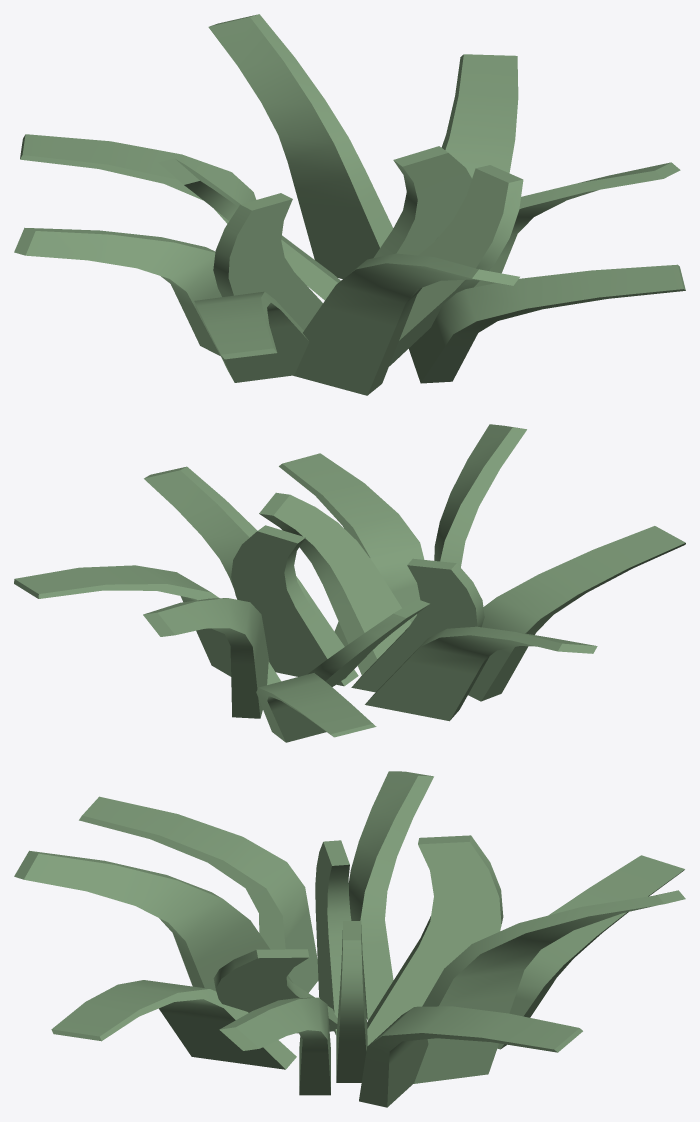
File: Grass_Patch_02.fbx
3 views of the same model, one above another, from view 1: azimuth 30°, elevation 25°; view 2: azimuth 150°, elevation 25°; view 3: azimuth 270°, elevation 25° (orthographic). The views are drawn at different scales.
Visible parts, largest first — view 1: Grass_Patch_02; view 2: Grass_Patch_02; view 3: Grass_Patch_02.
Part boxes in pixels (left/top/right/bottom): Grass_Patch_02: left=14, top=14, right=685, bottom=395; Grass_Patch_02: left=14, top=424, right=685, bottom=742; Grass_Patch_02: left=14, top=771, right=685, bottom=1107.
Size of the model in its own units: 15.12 by 4.5 by 15.36.
